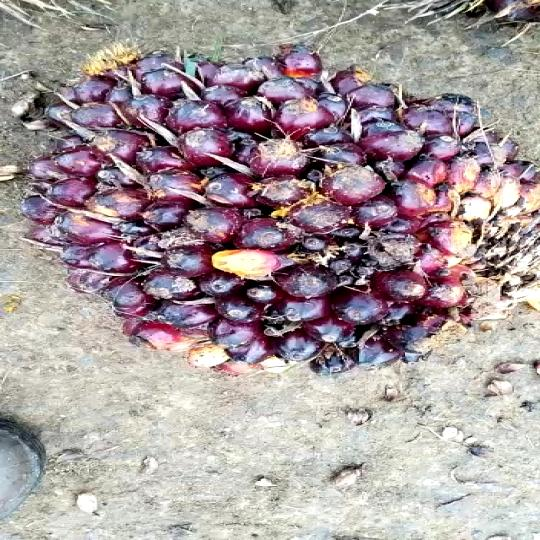mentah: (13, 39, 540, 390)
